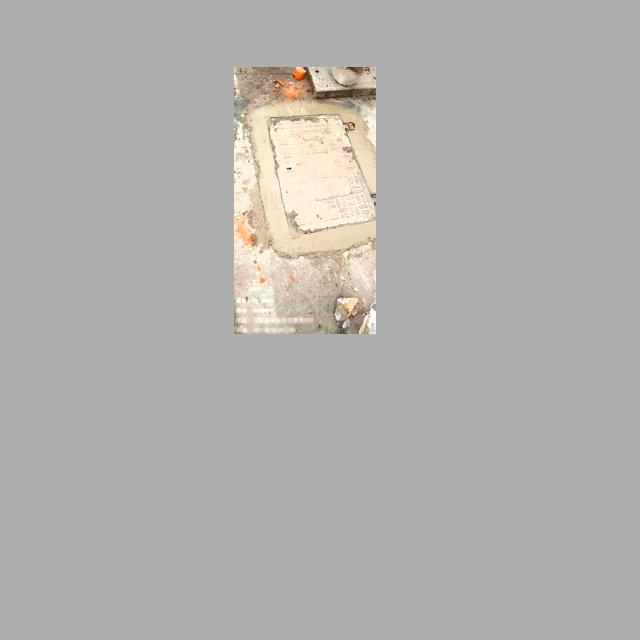good: (266, 113, 376, 238)
